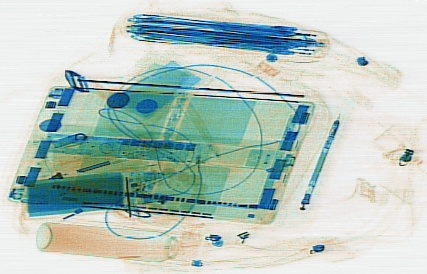pressure: (34, 218, 198, 262)
